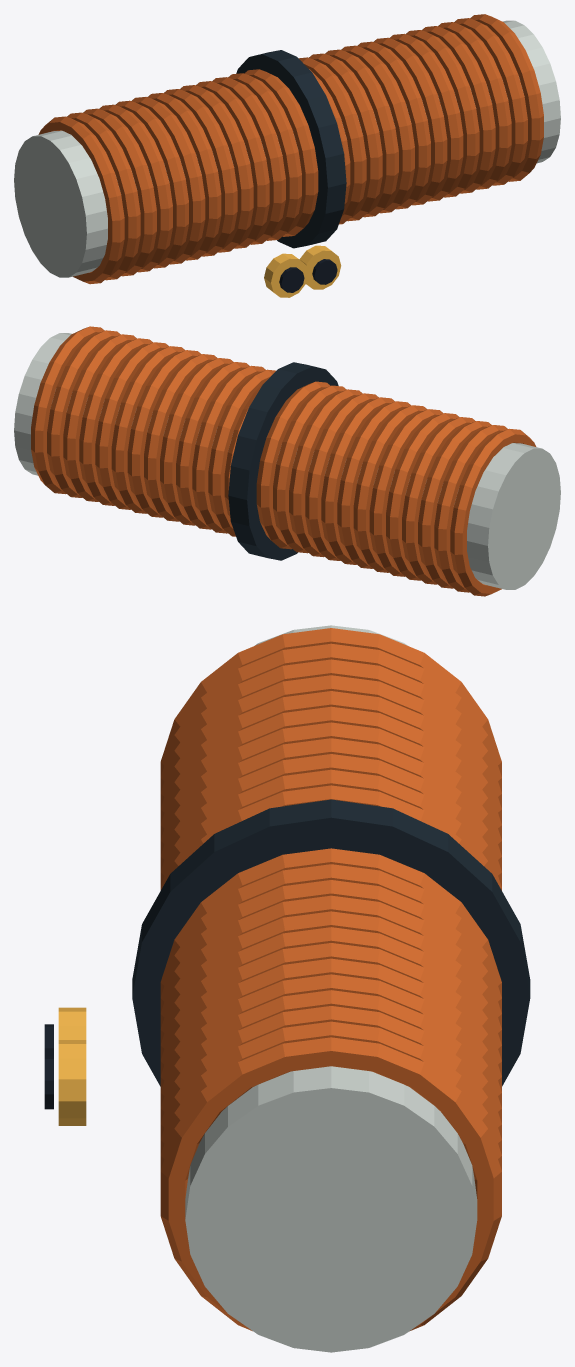
Rendered from 26_L84_MagneticTorqueRodX.fbx.
3 renders of one model, top to bottom at view 1: azimuth 30°, elevation 25°; view 2: azimuth 150°, elevation 25°; view 3: azimuth 270°, elevation 25°, orthographic. The views are drawn at different scales.
Visible parts, largest first — view 1: L84_MagneticTorqueRodX, L84_MagneticTorqueRodX_Part_0005, L84_MagneticTorqueRodX_Part_0007, L84_MagneticTorqueRodX_Part_0008, L84_MagneticTorqueRodX_Part_0006; view 2: L84_MagneticTorqueRodX; view 3: L84_MagneticTorqueRodX, L84_MagneticTorqueRodX_Part_0007, L84_MagneticTorqueRodX_Part_0005.
Part boxes in pixels (bbox=[...]): L84_MagneticTorqueRodX: bbox=[14, 14, 560, 284]; L84_MagneticTorqueRodX_Part_0005: bbox=[264, 253, 308, 297]; L84_MagneticTorqueRodX_Part_0007: bbox=[299, 245, 341, 289]; L84_MagneticTorqueRodX_Part_0008: bbox=[312, 259, 337, 284]; L84_MagneticTorqueRodX_Part_0006: bbox=[279, 267, 304, 292]; L84_MagneticTorqueRodX: bbox=[14, 326, 560, 596]; L84_MagneticTorqueRodX: bbox=[132, 625, 530, 1352]; L84_MagneticTorqueRodX_Part_0007: bbox=[58, 1040, 86, 1125]; L84_MagneticTorqueRodX_Part_0005: bbox=[58, 1007, 86, 1039].
Bounding box in the file's own units: 165 × 60 × 73.2.
